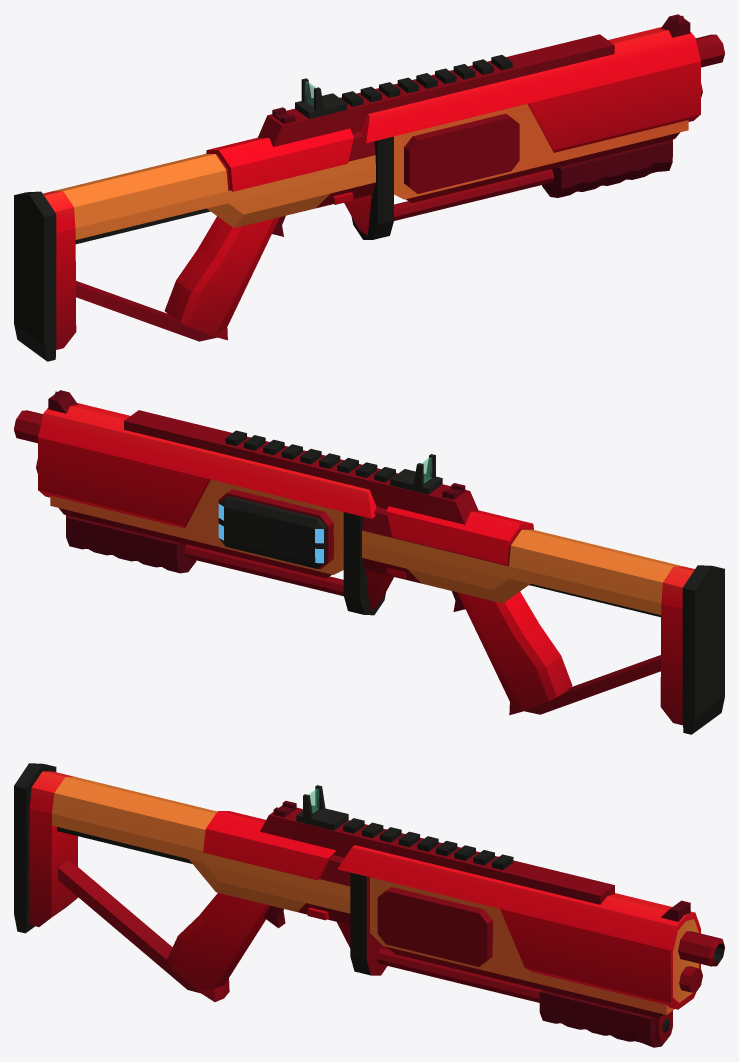
Rendered from Shotgun_A_mesh.fbx.
3 views of the same model, one above another, from view 1: azimuth 30°, elevation 25°; view 2: azimuth 150°, elevation 25°; view 3: azimuth 330°, elevation 25° (orthographic).
Visible parts, largest first — view 1: Shotgun_A_mesh, Grip_mesh, ReflexA_mesh, ShotgunIronSights_mesh; view 2: Shotgun_A_mesh, Mag_M_mesh, Grip_mesh, ReflexA_mesh, ShotgunIronSights_mesh; view 3: Shotgun_A_mesh, Grip_mesh, ReflexA_mesh, ShotgunIronSights_mesh.
Part boxes in pixels (left/top/right/bottom): Shotgun_A_mesh: left=14, top=27, right=724, bottom=361; Grip_mesh: left=542, top=140, right=672, bottom=197; ReflexA_mesh: left=295, top=78, right=347, bottom=118; ShotgunIronSights_mesh: left=272, top=14, right=690, bottom=124; Shotgun_A_mesh: left=14, top=403, right=724, bottom=734; Mag_M_mesh: left=218, top=496, right=326, bottom=568; Grip_mesh: left=66, top=516, right=196, bottom=573; ReflexA_mesh: left=390, top=454, right=442, bottom=494; ShotgunIronSights_mesh: left=48, top=390, right=465, bottom=499; Shotgun_A_mesh: left=14, top=763, right=724, bottom=1041; Grip_mesh: left=539, top=990, right=665, bottom=1047; ReflexA_mesh: left=296, top=785, right=348, bottom=830; ShotgunIronSights_mesh: left=273, top=800, right=690, bottom=921.
Size of the model in its own units: 80.02 by 25.44 by 7.53.
3 materials, 1 textured.
